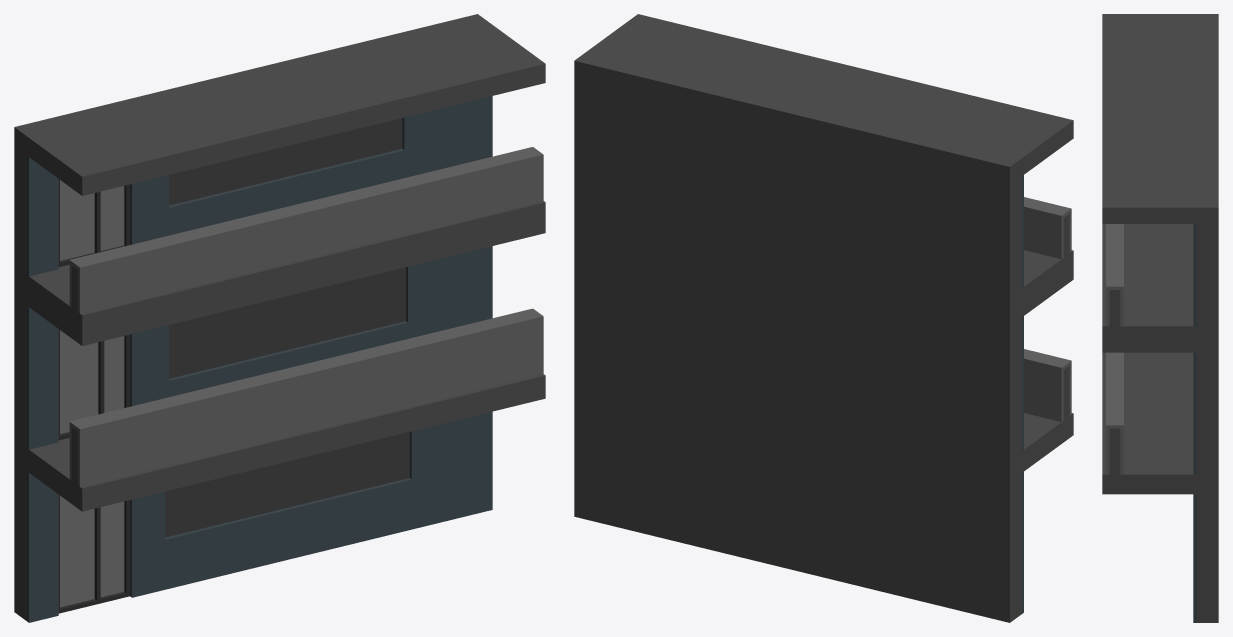
Rendered from Pool_building-2.obj.
3 renders of one model, left to right at view 1: azimuth 30°, elevation 25°; view 2: azimuth 150°, elevation 25°; view 3: azimuth 270°, elevation 25°, orthographic. The views are drawn at different scales.
Size of the model in its own units: 12.6 by 12.6 by 3.2.
1 material, 1 textured.
